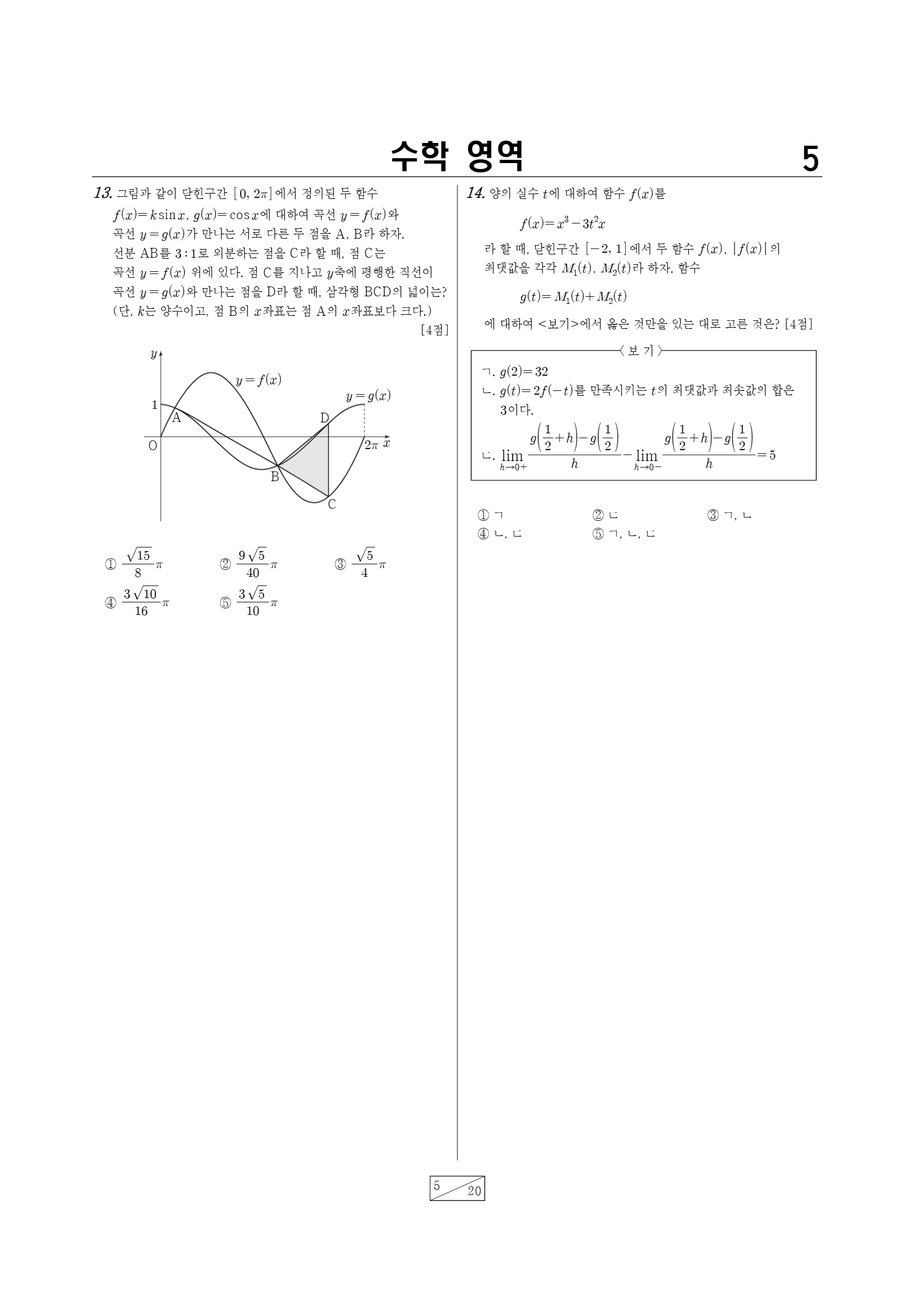opt_1: (105, 557, 117, 570), (478, 508, 489, 521)
opt_2: (219, 556, 233, 571), (592, 508, 604, 521)
opt_3: (334, 557, 346, 570), (707, 508, 719, 521)
opt_4: (477, 527, 489, 540), (105, 596, 116, 609)
opt_5: (220, 595, 231, 609), (592, 527, 604, 539)
